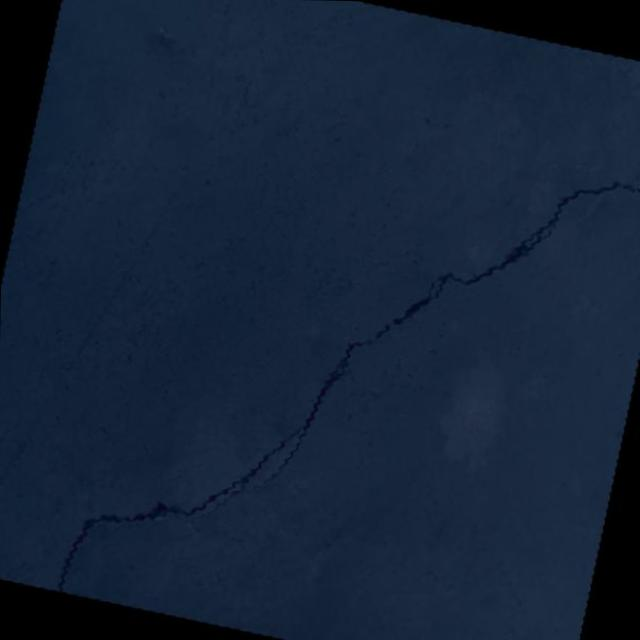crack: (53, 59, 640, 640), (354, 532, 388, 549)
